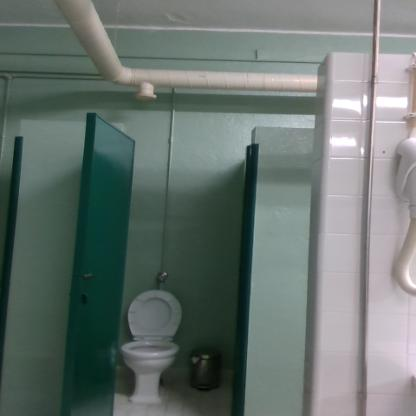open: (64, 108, 284, 416)
